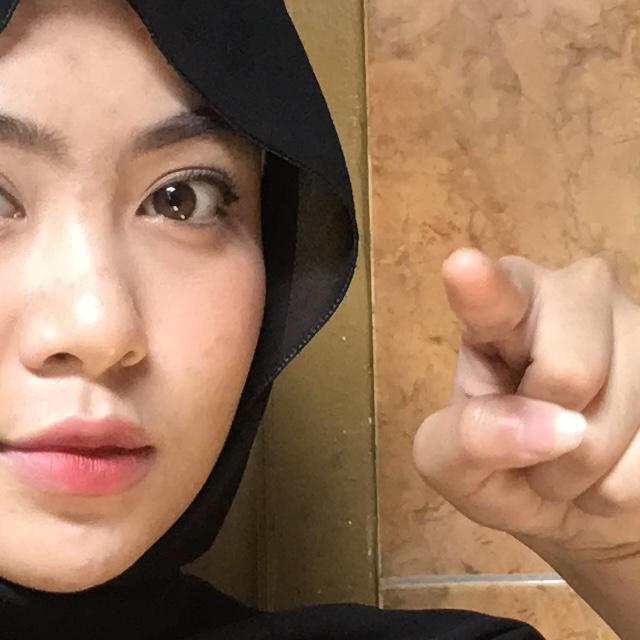kamu: (350, 196, 640, 640)
